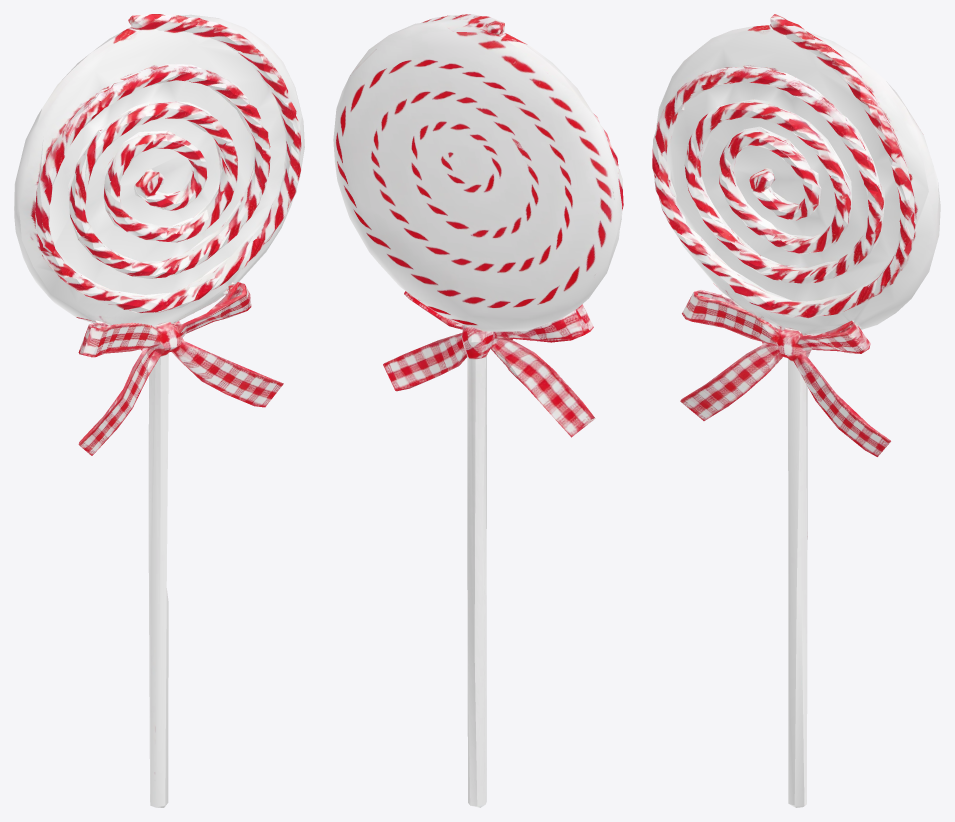
Rendered from lollipop.glb.
3 renders of one model, left to right at view 1: azimuth 30°, elevation 25°; view 2: azimuth 150°, elevation 25°; view 3: azimuth 330°, elevation 25°, orthographic.
Parts seen in each view (by area): view 1: Mesh1.0; view 2: Mesh1.0; view 3: Mesh1.0.
Part boxes in pixels (x1=…): Mesh1.0: x1=14, y1=14, x2=304, y2=807; Mesh1.0: x1=333, y1=14, x2=623, y2=807; Mesh1.0: x1=652, y1=14, x2=940, y2=807.
Bounding box in the file's own units: 0.0701 × 0.185 × 0.0135.
1 material, 1 textured.
